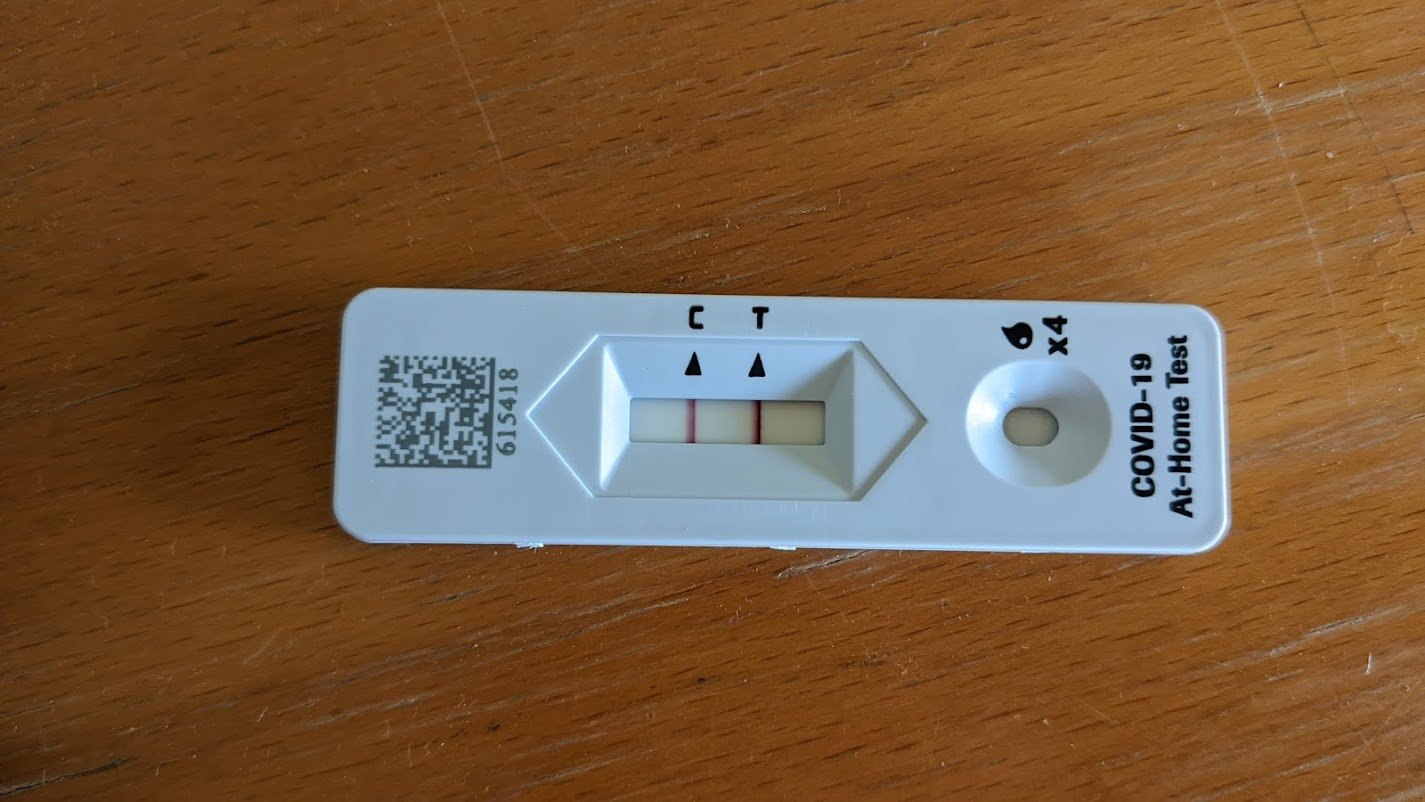positive: (605, 383, 850, 475)
